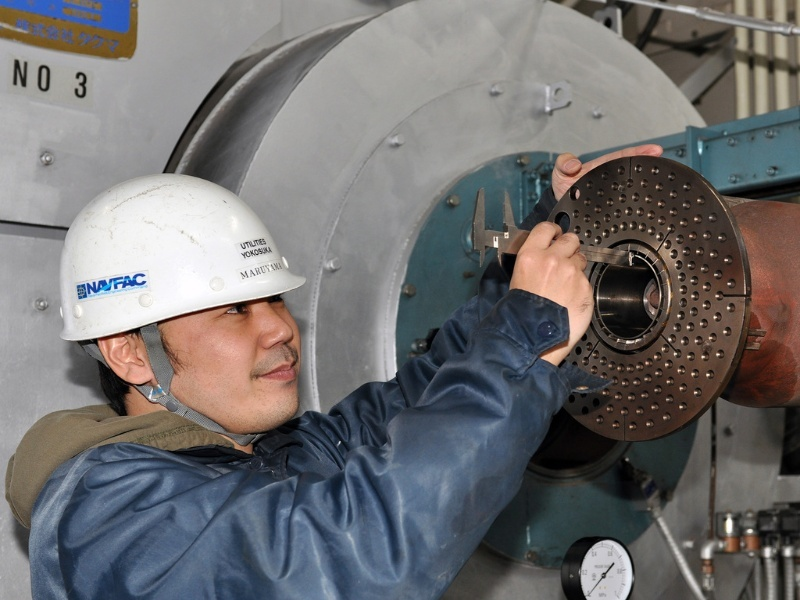baret: (57, 172, 310, 347)
